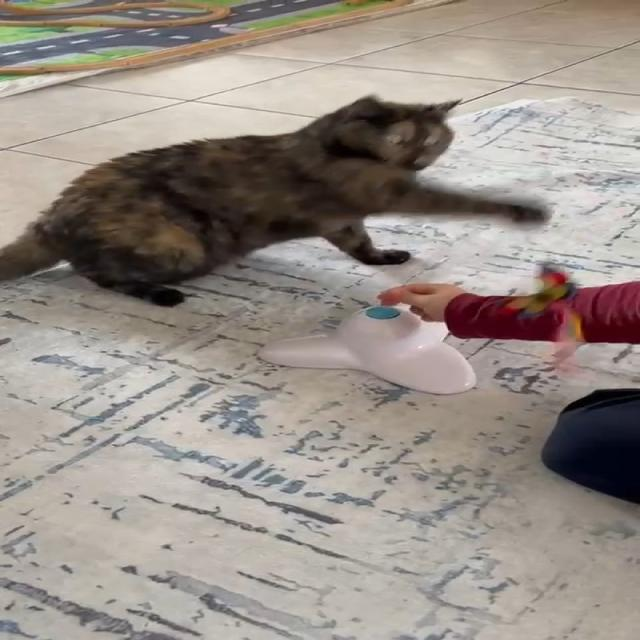authorized: (0, 93, 549, 308)
